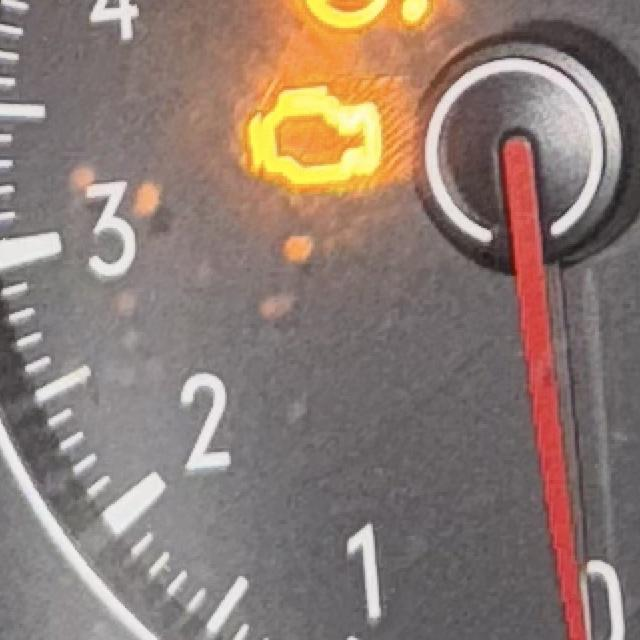Engine Issue: (242, 86, 384, 193)
